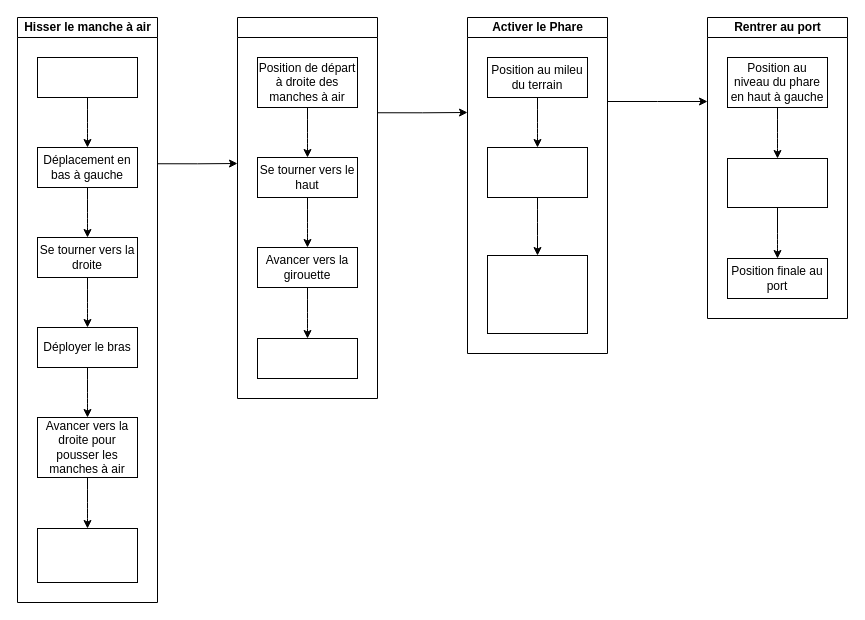
This 865x620 diagram has some shape labels left out. The shapes that lost their labels are listed below. From the top down, each one's box as (x1, y1, x2, y2) in pixels, then its label:
(36, 56, 138, 98): Position de départ
(486, 146, 588, 198): Déplacement jusqu'au mur supérieur
(726, 158, 828, 208): Déplacement en suivant le mur vers la gauche
(236, 16, 378, 398): Vérifier la girouette
(486, 254, 588, 334): Suivre le mure vers la gauche jusqu'à toucher le phare
(256, 338, 358, 378): Déterminer la position de la girouette
(36, 528, 138, 582): Incrémenter le compteur de points
